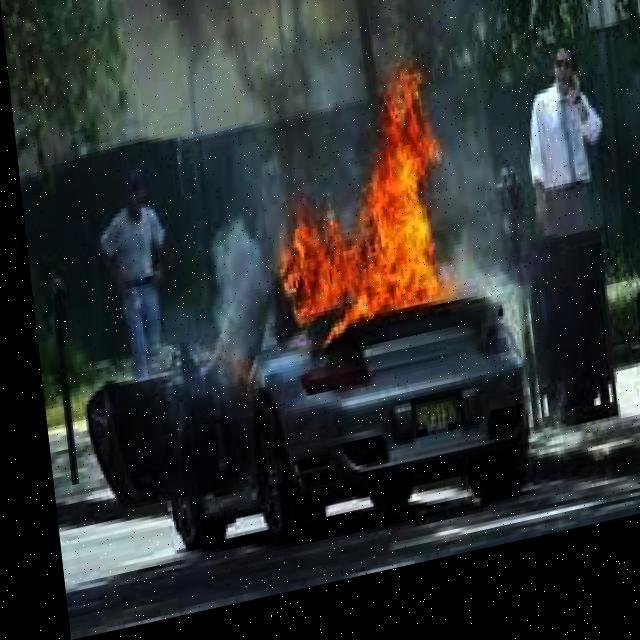Fire: (258, 76, 462, 356)
